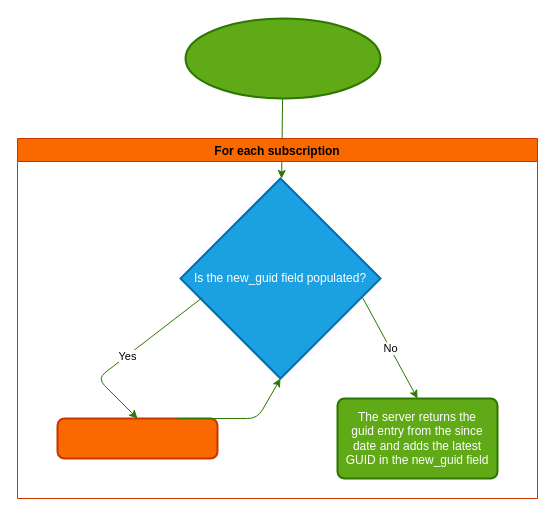
Image size: 555x516. Some labels were removed from this diagram. Here are the shapes that lost their labels. From the top down, the centre of each, then its label:
point (282, 58): The client requests information about subscriptions
point (137, 438): The server fetches the entry containing the guid
